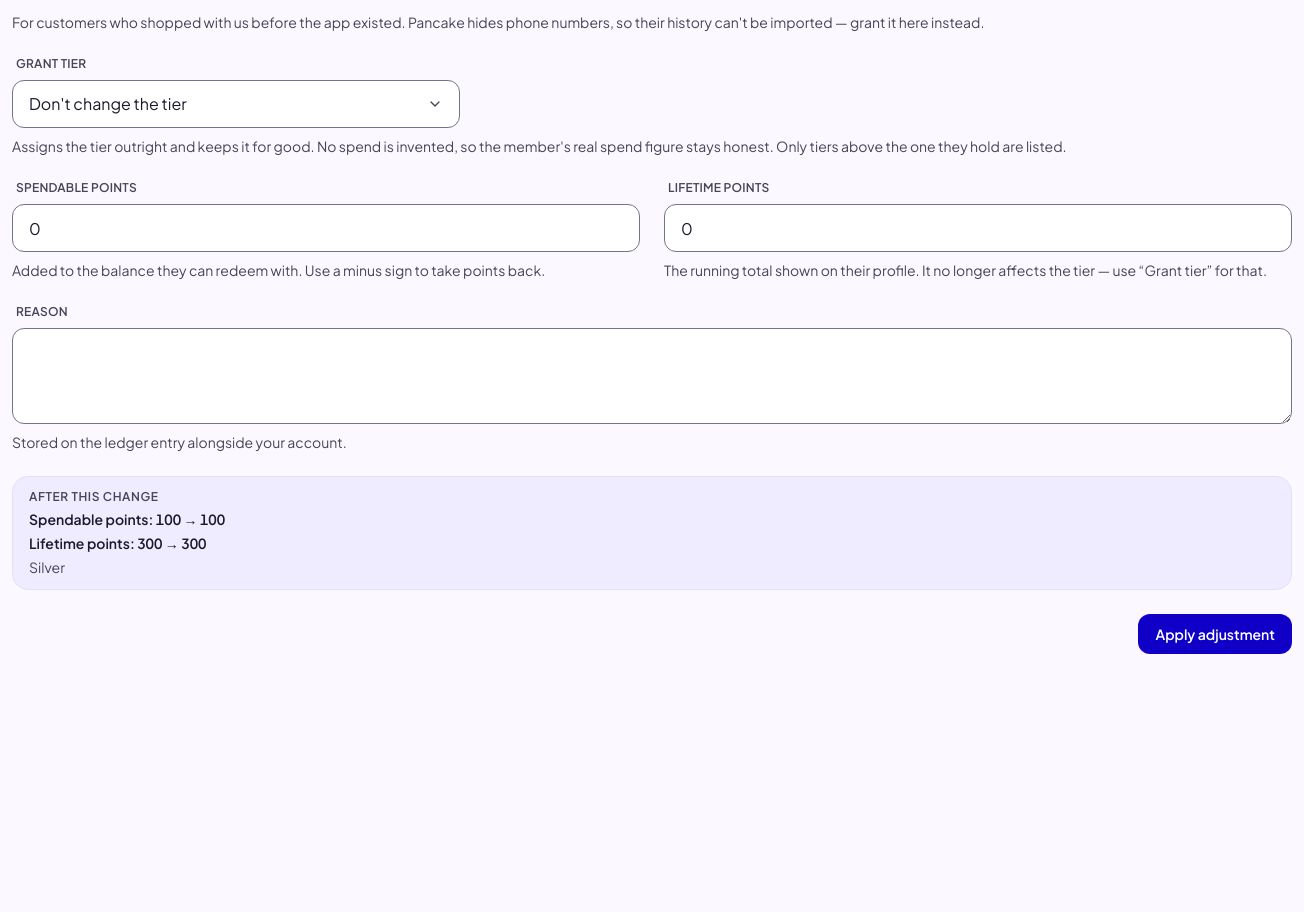
AdjustForm › refuses an adjustment that changes nothing
In the text box labelled "Reason": (652, 376) [12,328,1292,424], type "Nhập nhầm"
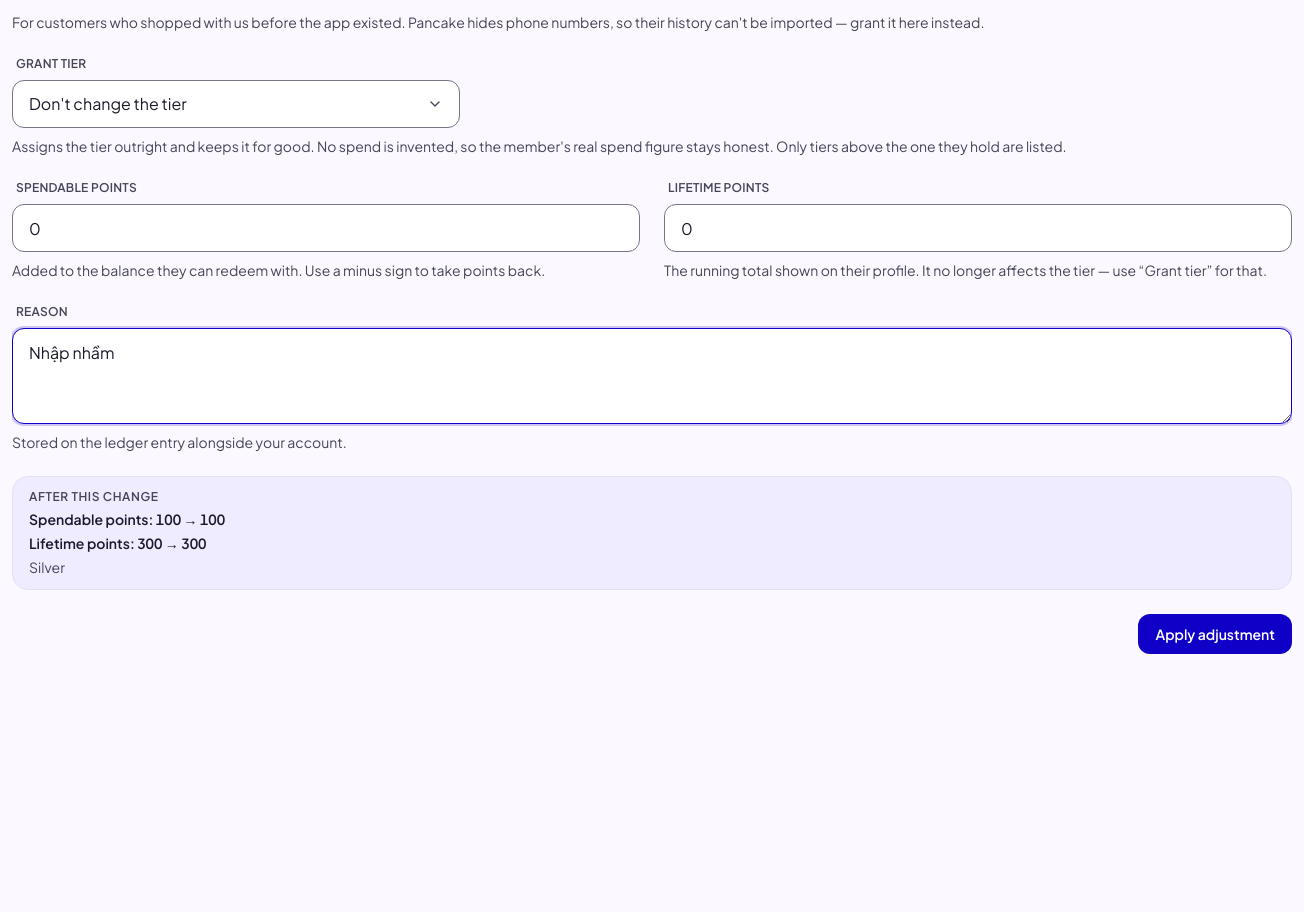
Click the button "Apply adjustment": (1215, 634) [1138,614,1292,654]
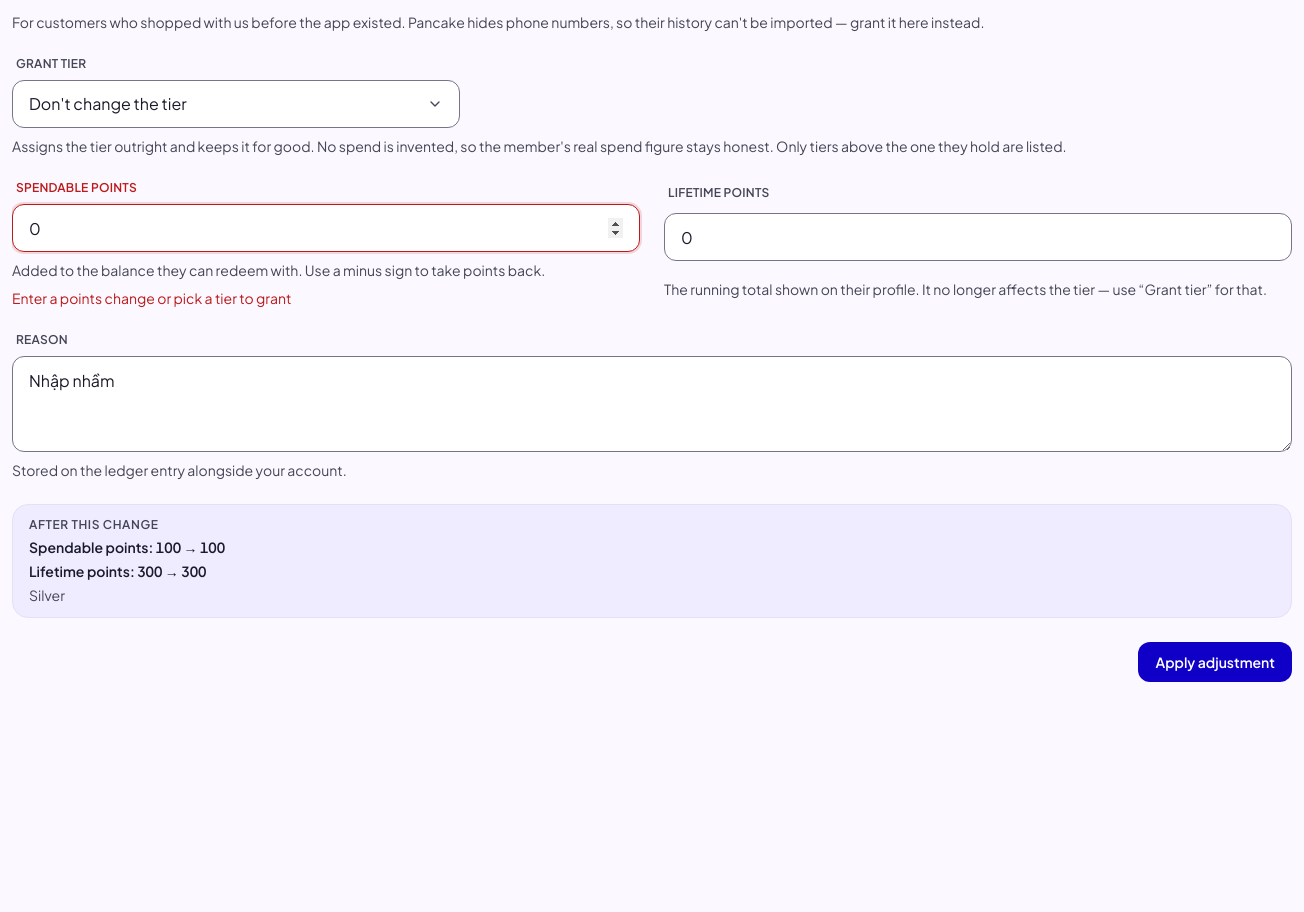
Now the text "Enter a points change or pick a tier to grant" is shown, box [12,289,291,307]
